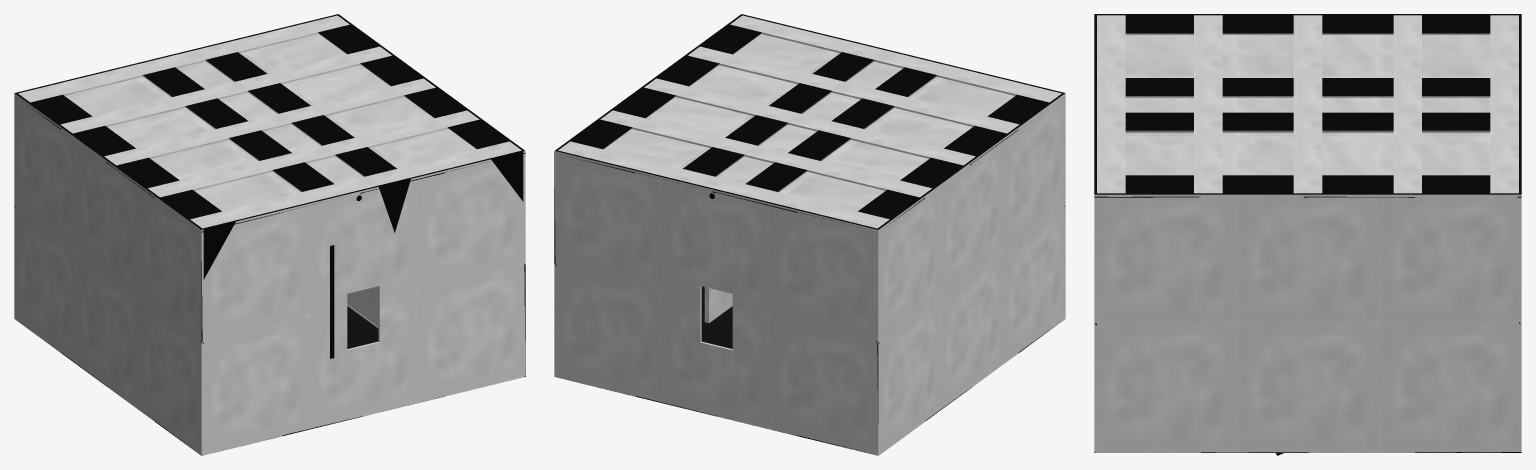
Rendered from LargeRoom2.fbx.
The picture shows the model from 3 angles, left to right: view 1: azimuth 30°, elevation 25°; view 2: azimuth 150°, elevation 25°; view 3: azimuth 270°, elevation 25°; orthographic projection. The views are drawn at different scales.
Visible parts, largest first — view 1: node_id6 (×4), node_id11; view 2: node_id6 (×4); view 3: node_id6 (×3).
Boxes of the visible parts, x1,y1,x2,y2 form: node_id6 (×4): [14, 14, 525, 455]; node_id11: [347, 286, 378, 326]; node_id6 (×4): [554, 14, 1065, 455]; node_id6 (×3): [1094, 14, 1521, 452].
Size of the model in its own units: 0.512 by 0.3461 by 0.512.
6 materials, 5 textured.
